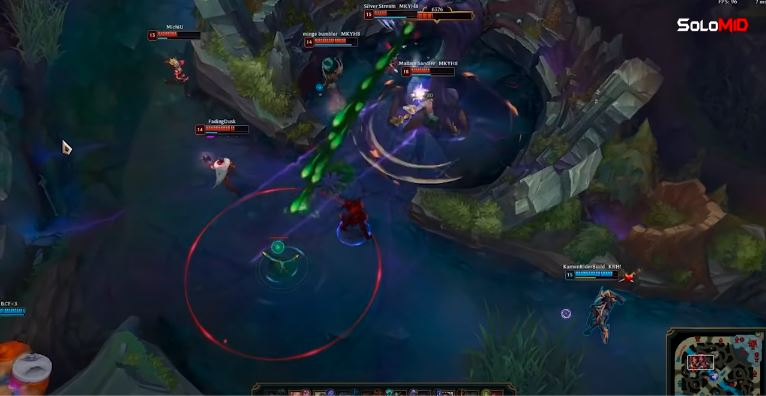bar: (561, 266, 622, 283), (193, 121, 253, 137), (146, 28, 203, 43), (400, 65, 458, 79), (302, 35, 359, 49), (361, 8, 420, 21), (1, 306, 28, 317)
